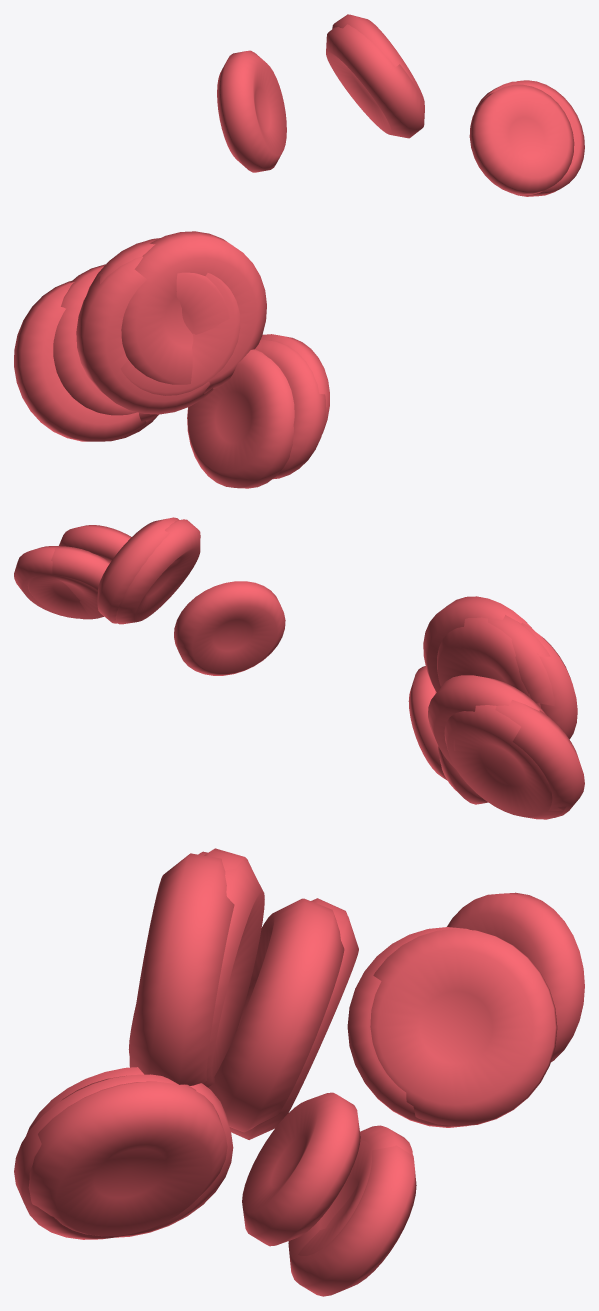
The model's file is S11_RBC_Swarm.glb.
3 views of the same model, one above another, from view 1: azimuth 30°, elevation 25°; view 2: azimuth 150°, elevation 25°; view 3: azimuth 270°, elevation 25° (orthographic). The views are drawn at different scales.
Parts seen in each view (by area): view 1: S11_Cell.015, S11_Cell.001, S11_Cell.010, S11_Cell.002, S11_Cell.008, S11_Cell.014, S11_Cell.009, S11_Cell.005, S11_Cell.013, S11_Cell.011, S11_Cell.007, S11_Cell.004 (+1 smaller); view 2: S11_Cell.014, S11_Cell.003, S11_Cell.008, S11_Cell.009, S11_Cell, S11_Cell.013, S11_Cell.012, S11_Cell.004, S11_Cell.015, S11_Cell.005, S11_Cell.007, S11_Cell.010 (+3 smaller); view 3: S11_Cell.004, S11_Cell.006, S11_Cell.013, S11_Cell.015, S11_Cell.002, S11_Cell.007, S11_Cell.014, S11_Cell, S11_Cell.009, S11_Cell.011, S11_Cell.003, S11_Cell.001 (+1 smaller).
Boxes of the visible parts, left/top/right/bottom form: S11_Cell.015: left=121, top=231, right=266, bottom=389; S11_Cell.001: left=187, top=349, right=294, bottom=488; S11_Cell.010: left=76, top=256, right=229, bottom=414; S11_Cell.002: left=469, top=84, right=574, bottom=195; S11_Cell.008: left=14, top=281, right=146, bottom=441; S11_Cell.014: left=217, top=50, right=286, bottom=172; S11_Cell.009: left=326, top=24, right=424, bottom=138; S11_Cell.005: left=86, top=239, right=240, bottom=395; S11_Cell.013: left=53, top=264, right=158, bottom=421; S11_Cell.011: left=255, top=340, right=326, bottom=479; S11_Cell.007: left=517, top=80, right=584, bottom=196; S11_Cell.004: left=332, top=14, right=424, bottom=103; S11_Cell.014: left=174, top=581, right=285, bottom=675; S11_Cell.003: left=444, top=705, right=566, bottom=819; S11_Cell.008: left=453, top=700, right=584, bottom=817; S11_Cell.009: left=115, top=519, right=200, bottom=624; S11_Cell: left=437, top=617, right=540, bottom=707; S11_Cell.013: left=428, top=675, right=546, bottom=769; S11_Cell.012: left=27, top=546, right=109, bottom=619; S11_Cell.004: left=97, top=517, right=178, bottom=623; S11_Cell.015: left=423, top=596, right=534, bottom=692; S11_Cell.005: left=487, top=615, right=554, bottom=706; S11_Cell.007: left=14, top=546, right=100, bottom=618; S11_Cell.010: left=521, top=622, right=577, bottom=739; S11_Cell.004: left=370, top=928, right=557, bottom=1126; S11_Cell.006: left=28, top=1081, right=227, bottom=1236; S11_Cell.013: left=208, top=898, right=344, bottom=1132; S11_Cell.015: left=129, top=853, right=234, bottom=1085; S11_Cell.002: left=242, top=1092, right=360, bottom=1246; S11_Cell.007: left=288, top=1140, right=416, bottom=1296; S11_Cell.014: left=447, top=892, right=584, bottom=1062; S11_Cell: left=203, top=859, right=264, bottom=1087; S11_Cell.009: left=347, top=927, right=469, bottom=1127; S11_Cell.011: left=14, top=1074, right=196, bottom=1239; S11_Cell.003: left=229, top=916, right=358, bottom=1139; S11_Cell.001: left=26, top=1067, right=233, bottom=1237.
Bounding box in the file's own units: 10.28 × 5.44 × 5.83.
